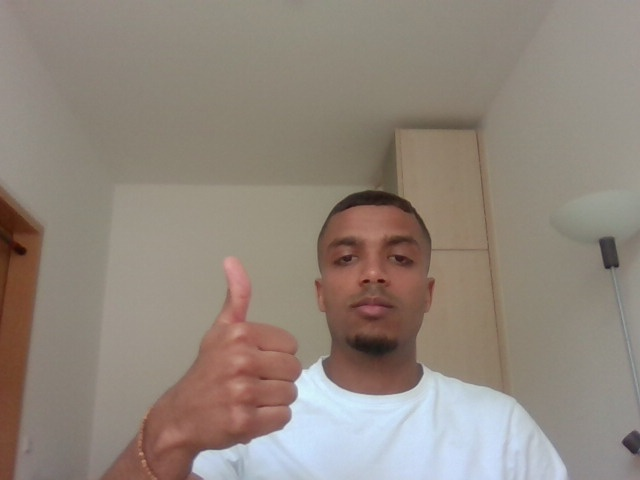yes: (153, 241, 314, 471)
